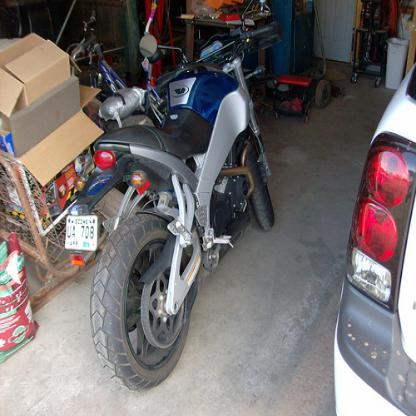bicycle: (72, 7, 160, 95)
car: (333, 62, 415, 415)
motorbike: (68, 18, 277, 395)
